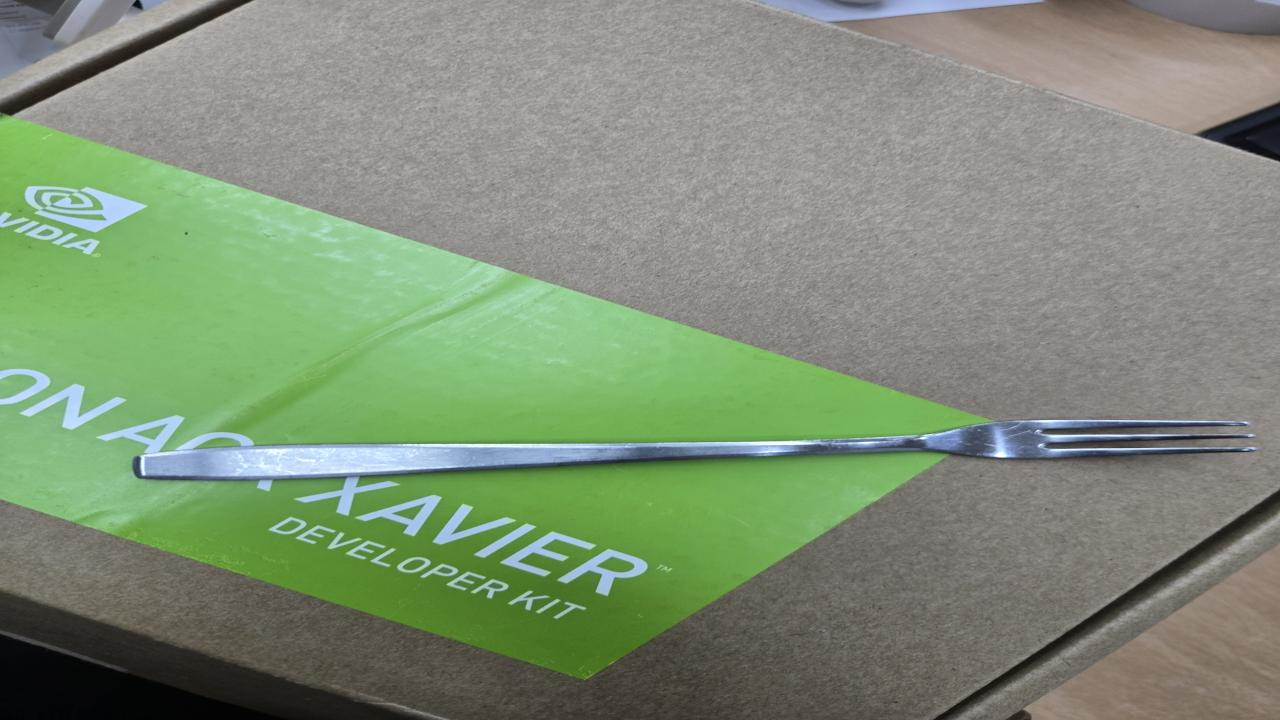fork: (139, 418, 1263, 481)
